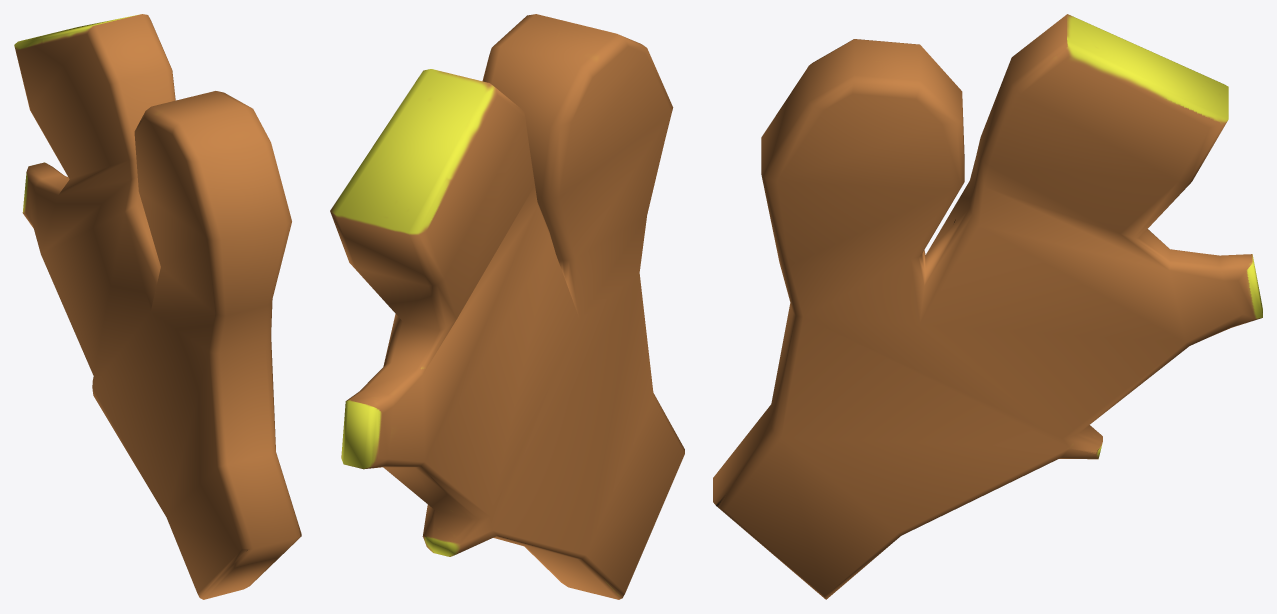
The model's file is scene_ingwer.gltf.
3 renders of one model, left to right at view 1: azimuth 30°, elevation 25°; view 2: azimuth 150°, elevation 25°; view 3: azimuth 270°, elevation 25°, orthographic. The views are drawn at different scales.
Parts seen in each view (by area): view 1: Cube; view 2: Cube; view 3: Cube.
Part boxes in pixels (bbox=[...]): Cube: bbox=[14, 14, 301, 599]; Cube: bbox=[330, 14, 684, 599]; Cube: bbox=[713, 14, 1262, 599].
Size of the model in its own units: 0.2389 by 1.34 by 1.19.
Materials: 1 (1 with a texture image).
